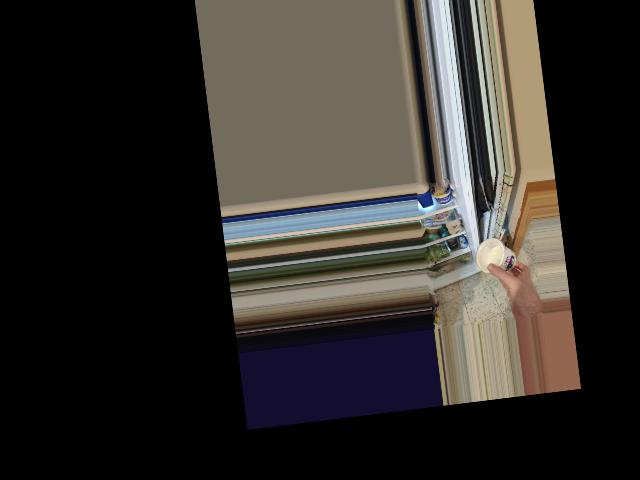cotage: (476, 235, 519, 276)
